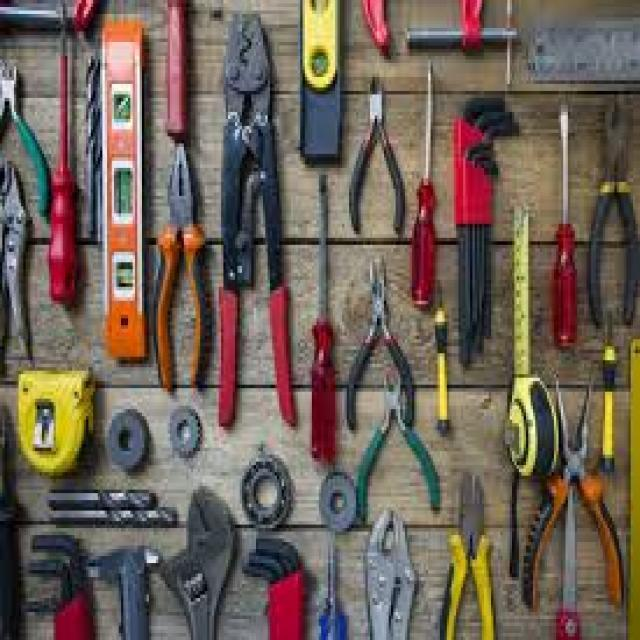pliers: (210, 14, 296, 433), (527, 382, 617, 602), (152, 132, 208, 388), (582, 92, 640, 332), (347, 376, 442, 520), (338, 254, 413, 433), (346, 70, 408, 234), (362, 500, 422, 640), (444, 464, 491, 640), (0, 52, 45, 220)
wrench: (166, 478, 237, 640)
